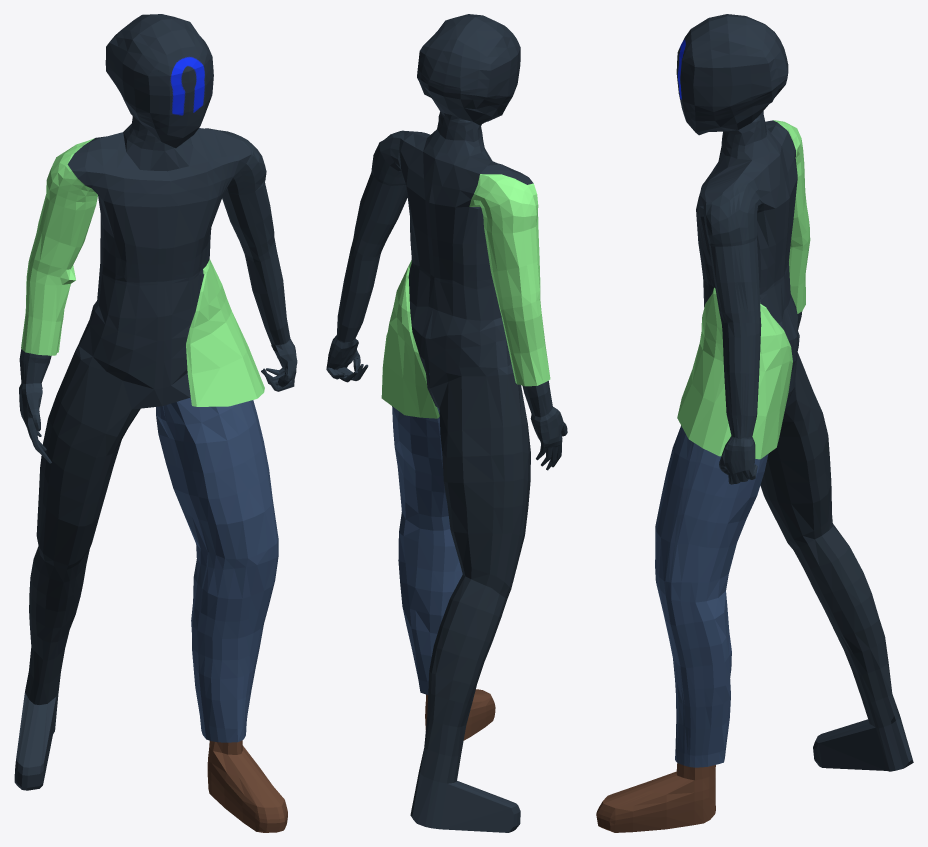
File: Mar_Recover_000021.obj
3 renders of one model, left to right at view 1: azimuth 30°, elevation 25°; view 2: azimuth 150°, elevation 25°; view 3: azimuth 270°, elevation 25°, orthographic. The views are drawn at different scales.
Visible parts, largest first — view 1: Cube.000_Cube.001; view 2: Cube.000_Cube.001; view 3: Cube.000_Cube.001.
Part boxes in pixels (left/top/right/bottom): Cube.000_Cube.001: left=14, top=14, right=297, bottom=832; Cube.000_Cube.001: left=326, top=14, right=567, bottom=832; Cube.000_Cube.001: left=596, top=14, right=913, bottom=832.
Bounding box in the file's own units: 1.33 × 3.93 × 1.44.
